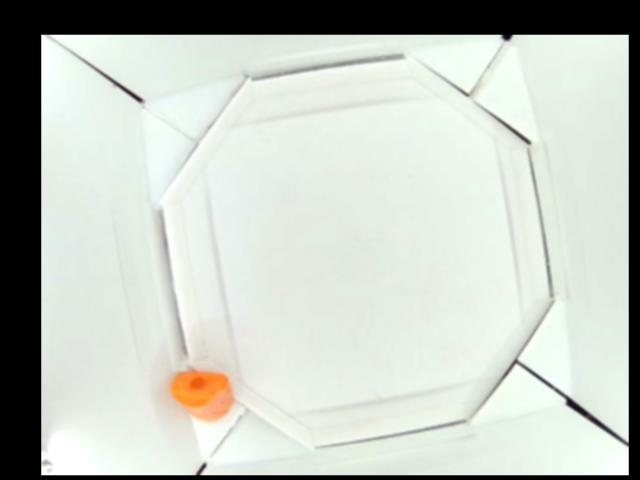Carrot: (172, 369, 234, 420)
